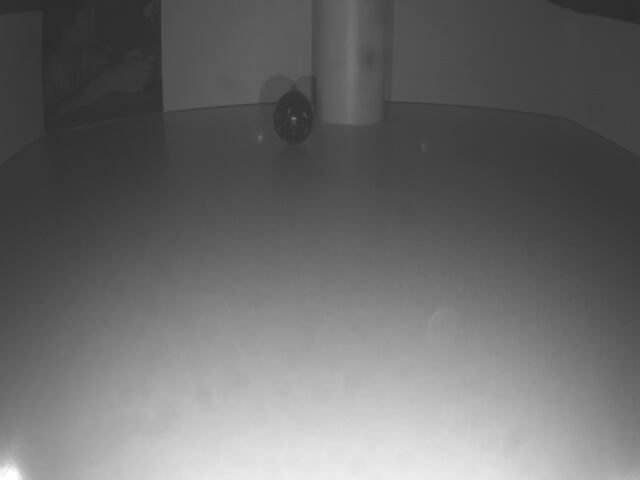Dead: (274, 90, 314, 144)
